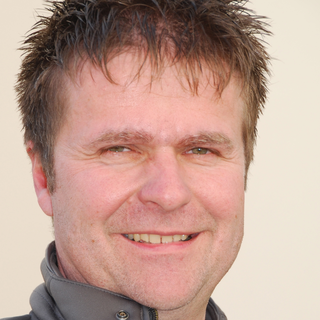eye: (177, 140, 226, 163), (94, 140, 145, 161)
